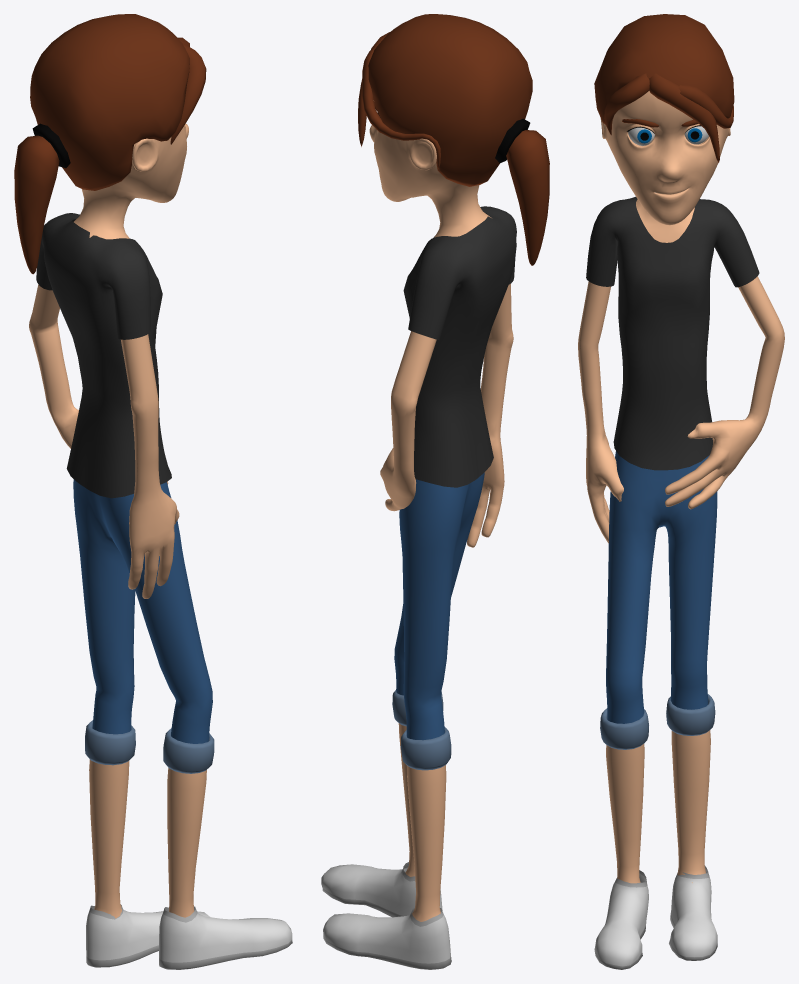
Rendered from BigElaine.obj.
3 views of the same model, side by side, from view 1: azimuth 30°, elevation 25°; view 2: azimuth 150°, elevation 25°; view 3: azimuth 270°, elevation 25° (orthographic). The views are drawn at different scales.
Visible parts, largest first — view 1: Character_Mesh_Cube.001, Pants_Cube.007, Shirt_Cube.008, Hair_Cube.006, Shoes_Cube.003, Hair2_Cube.005; view 2: Character_Mesh_Cube.001, Shirt_Cube.008, Hair_Cube.006, Pants_Cube.007, Shoes_Cube.003, Hair2_Cube.005; view 3: Character_Mesh_Cube.001, Shirt_Cube.008, Pants_Cube.007, Hair_Cube.006, Shoes_Cube.003, Hair2_Cube.005, Eyes_Cube.002.
Boxes of the visible parts, <box> form: Character_Mesh_Cube.001: <box>29,123,206,918</box>; Pants_Cube.007: <box>73,479,214,773</box>; Shirt_Cube.008: <box>36,213,171,498</box>; Hair_Cube.006: <box>30,14,189,190</box>; Shoes_Cube.003: <box>86,905,292,969</box>; Hair2_Cube.005: <box>14,37,206,274</box>; Character_Mesh_Cube.001: <box>369,100,513,921</box>; Shirt_Cube.008: <box>403,206,516,487</box>; Hair_Cube.006: <box>368,14,532,186</box>; Pants_Cube.007: <box>392,472,484,770</box>; Shoes_Cube.003: <box>321,862,451,969</box>; Hair2_Cube.005: <box>358,32,549,265</box>; Character_Mesh_Cube.001: <box>578,91,784,883</box>; Shirt_Cube.008: <box>586,196,759,470</box>; Pants_Cube.007: <box>600,451,717,749</box>; Hair_Cube.006: <box>594,14,734,124</box>; Shoes_Cube.003: <box>594,865,717,969</box>; Hair2_Cube.005: <box>604,73,733,162</box>; Eyes_Cube.002: <box>628,126,708,145</box>.
Bounding box in the file's own units: 0.0999 × 0.3627 × 0.0762.
